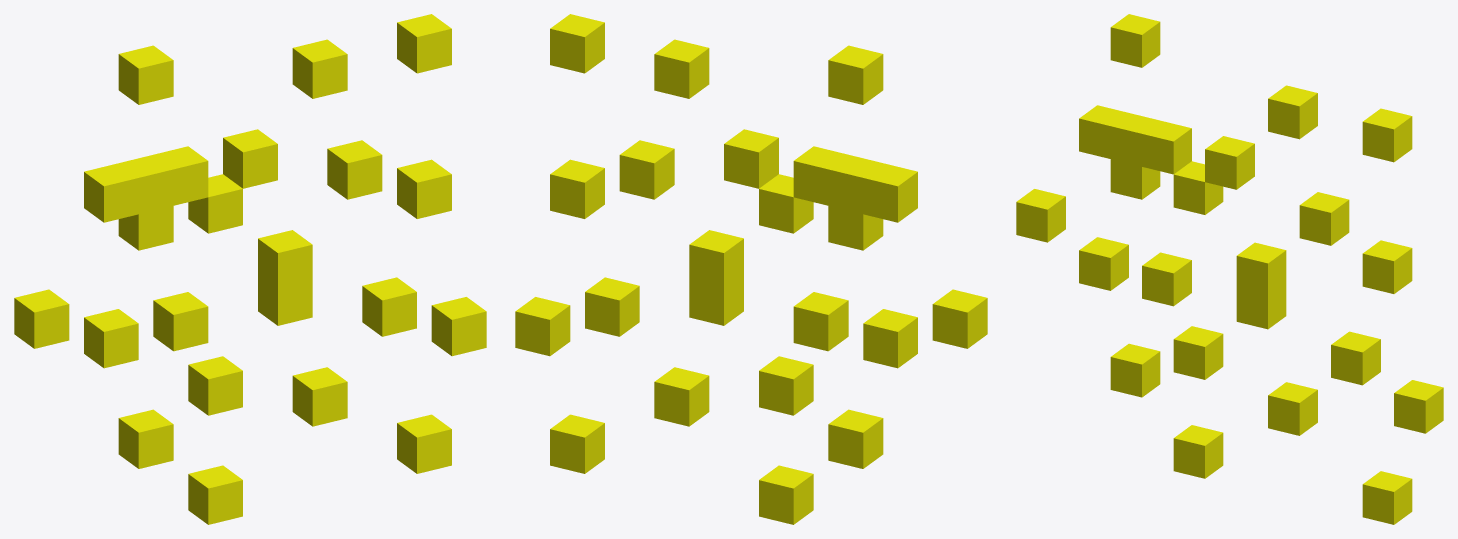
File: Prototype Golden Bullet Spray.obj
The picture shows the model from 3 angles, left to right: view 1: azimuth 30°, elevation 25°; view 2: azimuth 150°, elevation 25°; view 3: azimuth 330°, elevation 25°; orthographic projection. The views are drawn at different scales.
Size of the model in its own units: 1.3 by 1.3 by 0.1.
